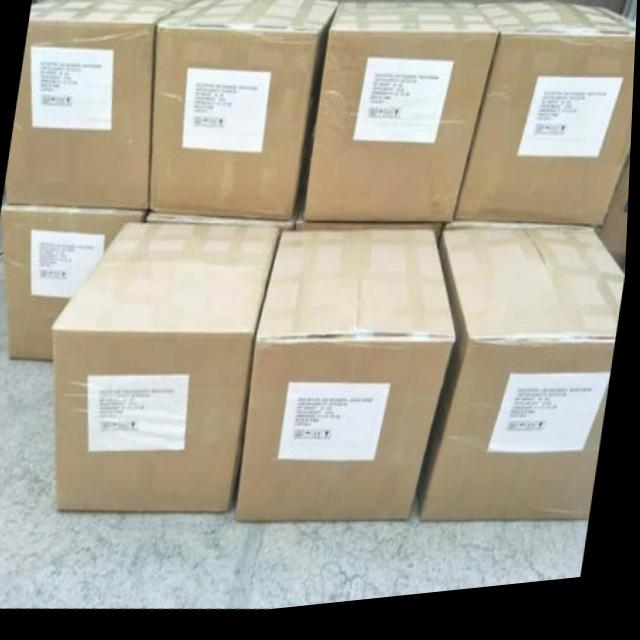box: (53, 225, 282, 515), (239, 238, 459, 526), (423, 239, 627, 532), (305, 10, 499, 233), (150, 0, 338, 226), (6, 0, 199, 214), (456, 12, 637, 240), (3, 202, 146, 364), (602, 158, 633, 292)
